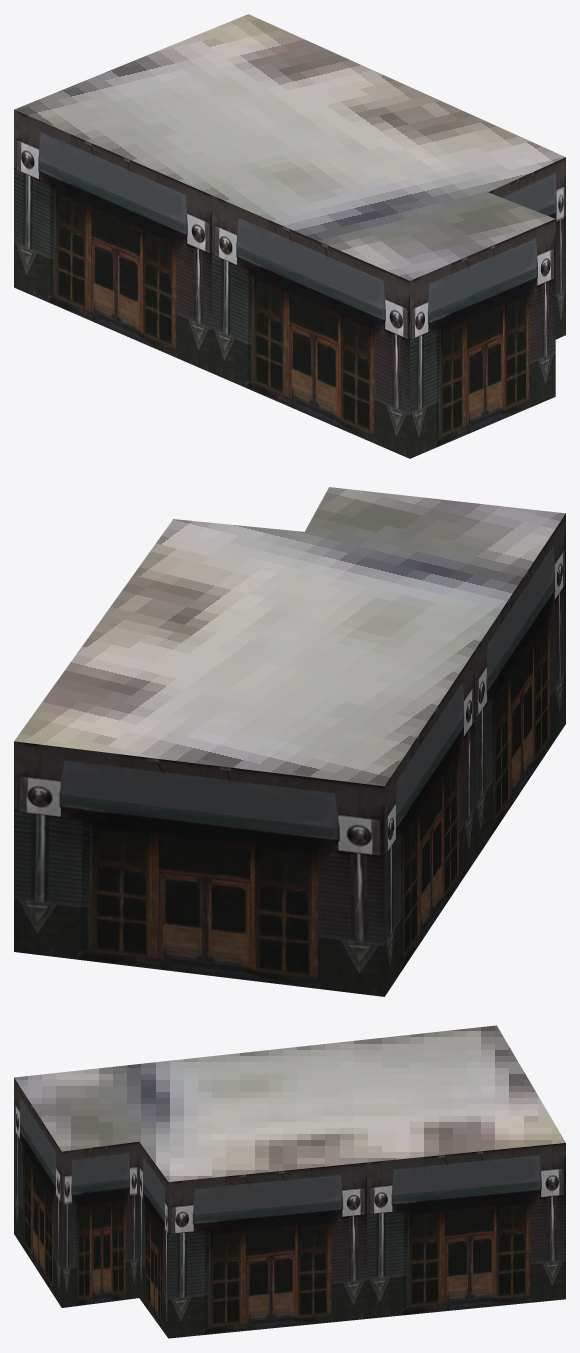
3 views of the same model, one above another, from view 1: azimuth 30°, elevation 25°; view 2: azimuth 150°, elevation 25°; view 3: azimuth 270°, elevation 25° (orthographic). The views are drawn at different scales.
Parts seen in each view (by area): view 1: SketchUp (×4); view 2: SketchUp (×3); view 3: SketchUp (×5).
Boxes of the visible parts, left/top/right/bottom form: SketchUp (×4): left=14, top=14, right=565, bottom=458; SketchUp (×3): left=14, top=487, right=565, bottom=996; SketchUp (×5): left=14, top=1025, right=565, bottom=1338.
Bounding box in the file's own units: 6.6 × 9.82 × 3.07.
Materials: 2 (2 with a texture image).
